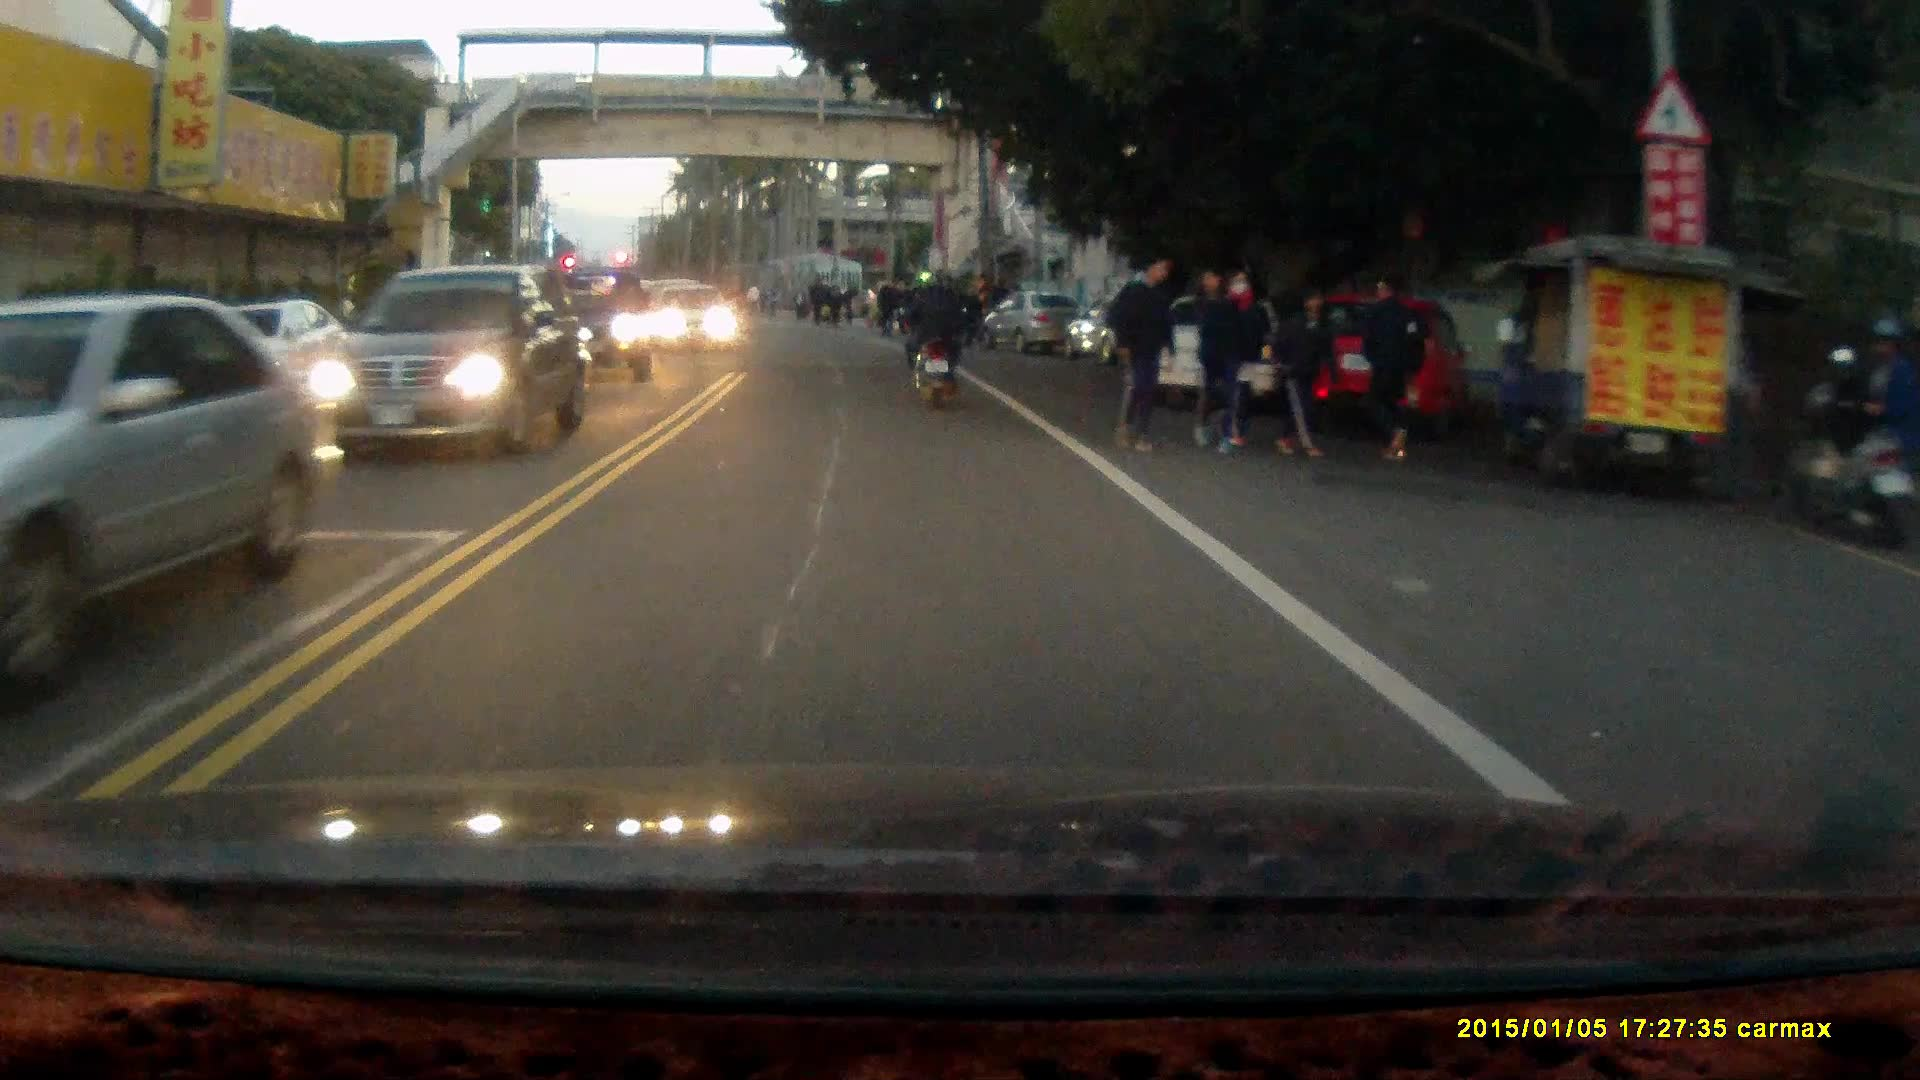pedestrian: (1104, 245, 1178, 454), (1849, 313, 1916, 523), (1355, 271, 1424, 464), (1272, 283, 1345, 459), (1187, 257, 1250, 454), (1213, 268, 1276, 453)
rider: (895, 271, 966, 411)
vehicle: (1, 293, 314, 699), (323, 263, 589, 458), (1270, 292, 1469, 442), (1144, 291, 1346, 428), (526, 271, 656, 388), (982, 293, 1085, 356), (657, 286, 745, 356)
